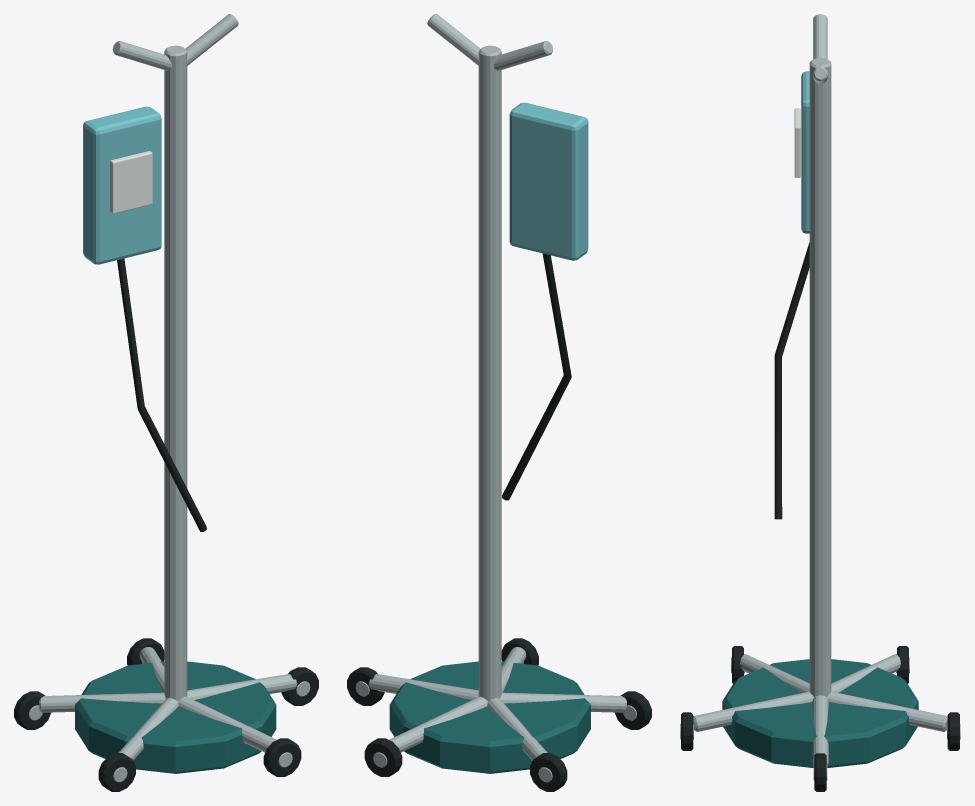
File: MH06_IV_Stand_and_Fluid_Bag.glb
The picture shows the model from 3 angles, left to right: view 1: azimuth 30°, elevation 25°; view 2: azimuth 150°, elevation 25°; view 3: azimuth 270°, elevation 25°; orthographic projection. The views are drawn at different scales.
Visible parts, largest first — view 1: Pole, Stand_Base, Fluid_Bag, Fluid_Line, Bag_Label, Base_Leg_03, Base_Leg_05, Base_Leg_01, Caster_05_Tire, Caster_04_Tire, Base_Leg_04, Hook_Right (+4 smaller); view 2: Pole, Stand_Base, Fluid_Bag, Fluid_Line, Base_Leg_04, Base_Leg_02, Base_Leg_01, Caster_02_Tire, Caster_03_Tire, Base_Leg_03, Hook_Right, Hook_Left (+3 smaller); view 3: Pole, Stand_Base, Fluid_Line, Fluid_Bag, Base_Leg_02, Base_Leg_05, Base_Leg_01, Base_Leg_03, Base_Leg_04, Hook_Left.
Boxes of the visible parts, box(x1,y1,x2,y2) form: Pole: box(164, 45, 187, 700); Stand_Base: box(75, 661, 276, 773); Fluid_Bag: box(83, 106, 161, 264); Fluid_Line: box(117, 258, 206, 531); Bag_Label: box(110, 151, 152, 213); Base_Leg_03: box(39, 692, 165, 712); Base_Leg_05: box(178, 696, 276, 752); Base_Leg_01: box(187, 674, 297, 700); Caster_05_Tire: box(263, 738, 301, 776); Caster_04_Tire: box(98, 753, 135, 791); Base_Leg_04: box(118, 698, 178, 760); Hook_Right: box(185, 14, 238, 65); Pole: box(478, 45, 501, 700); Stand_Base: box(389, 661, 590, 773); Fluid_Bag: box(509, 102, 588, 260); Fluid_Line: box(502, 253, 571, 500); Base_Leg_04: box(500, 692, 626, 712); Base_Leg_02: box(389, 696, 487, 752); Base_Leg_01: box(368, 674, 478, 700); Caster_02_Tire: box(364, 738, 402, 776); Caster_03_Tire: box(530, 753, 567, 791); Base_Leg_03: box(487, 698, 547, 760); Hook_Right: box(427, 14, 480, 65); Hook_Left: box(494, 41, 552, 70); Pole: box(809, 58, 831, 697); Stand_Base: box(722, 659, 918, 767); Fluid_Line: box(774, 242, 809, 519); Fluid_Bag: box(801, 71, 809, 233); Base_Leg_02: box(827, 691, 947, 731); Base_Leg_05: box(693, 691, 813, 731); Base_Leg_01: box(812, 695, 828, 765); Base_Leg_03: box(831, 654, 900, 692); Base_Leg_04: box(740, 654, 809, 692); Hook_Left: box(813, 14, 827, 59).
Size of the model in its own units: 0.8308 by 2.17 by 0.8.
